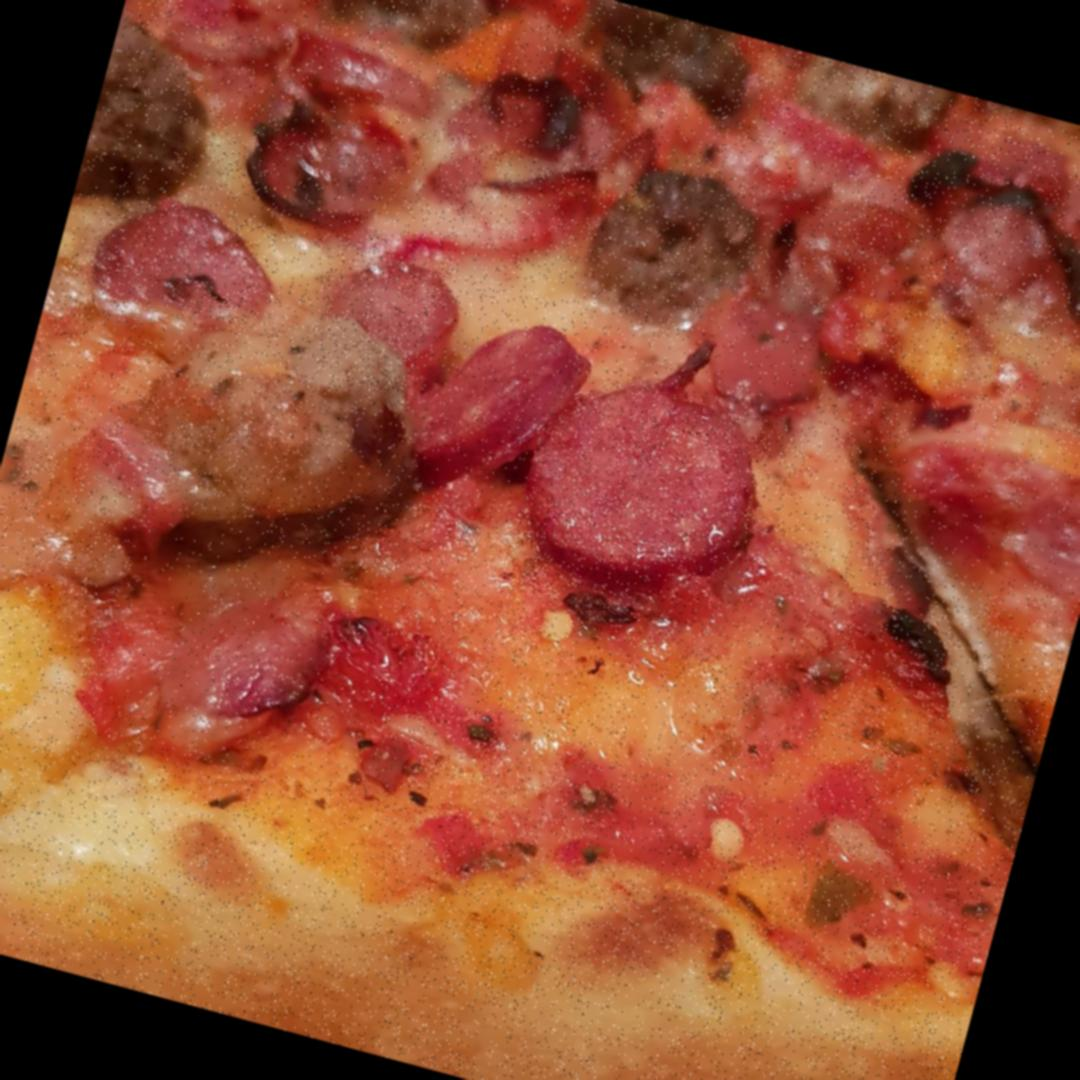Ham: (95, 509, 406, 794), (868, 402, 1080, 608), (804, 156, 1059, 322), (160, 0, 429, 124), (417, 136, 594, 288)
Pepperoni: (506, 368, 777, 622), (392, 308, 578, 510), (75, 180, 280, 354), (238, 80, 431, 242), (678, 282, 840, 433), (307, 241, 458, 402)
Pizza: (0, 0, 1080, 1080)
